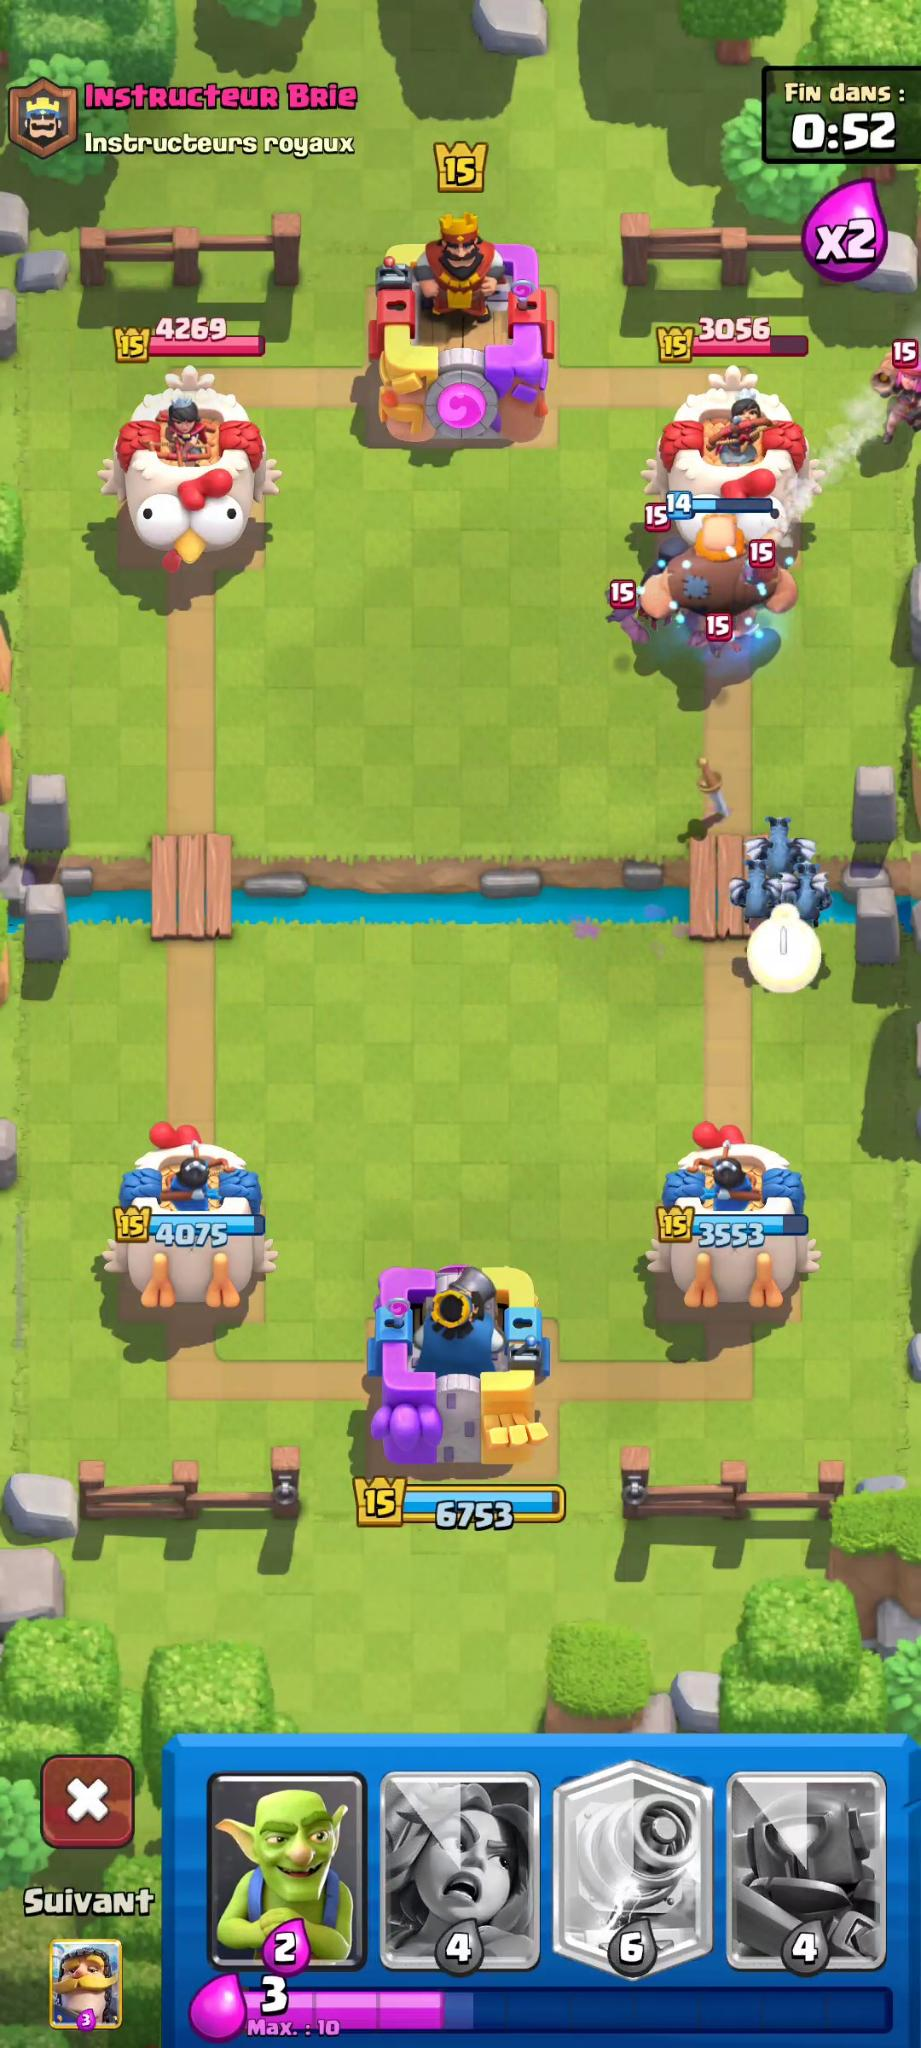bat: (729, 537, 828, 598), (594, 584, 648, 652), (691, 622, 747, 675)
gargouille: (779, 859, 866, 938), (747, 799, 819, 874), (732, 863, 779, 933)
geant: (638, 496, 797, 658)
